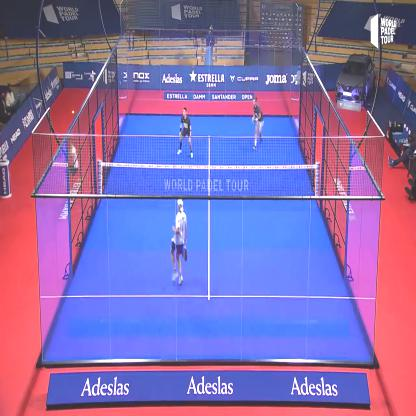ball: (72, 108, 78, 116)
